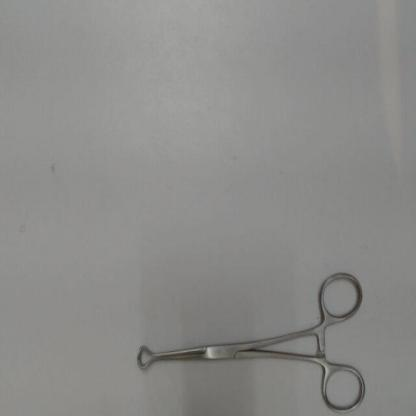Babcock Tissue Forceps: (133, 266, 369, 413)
